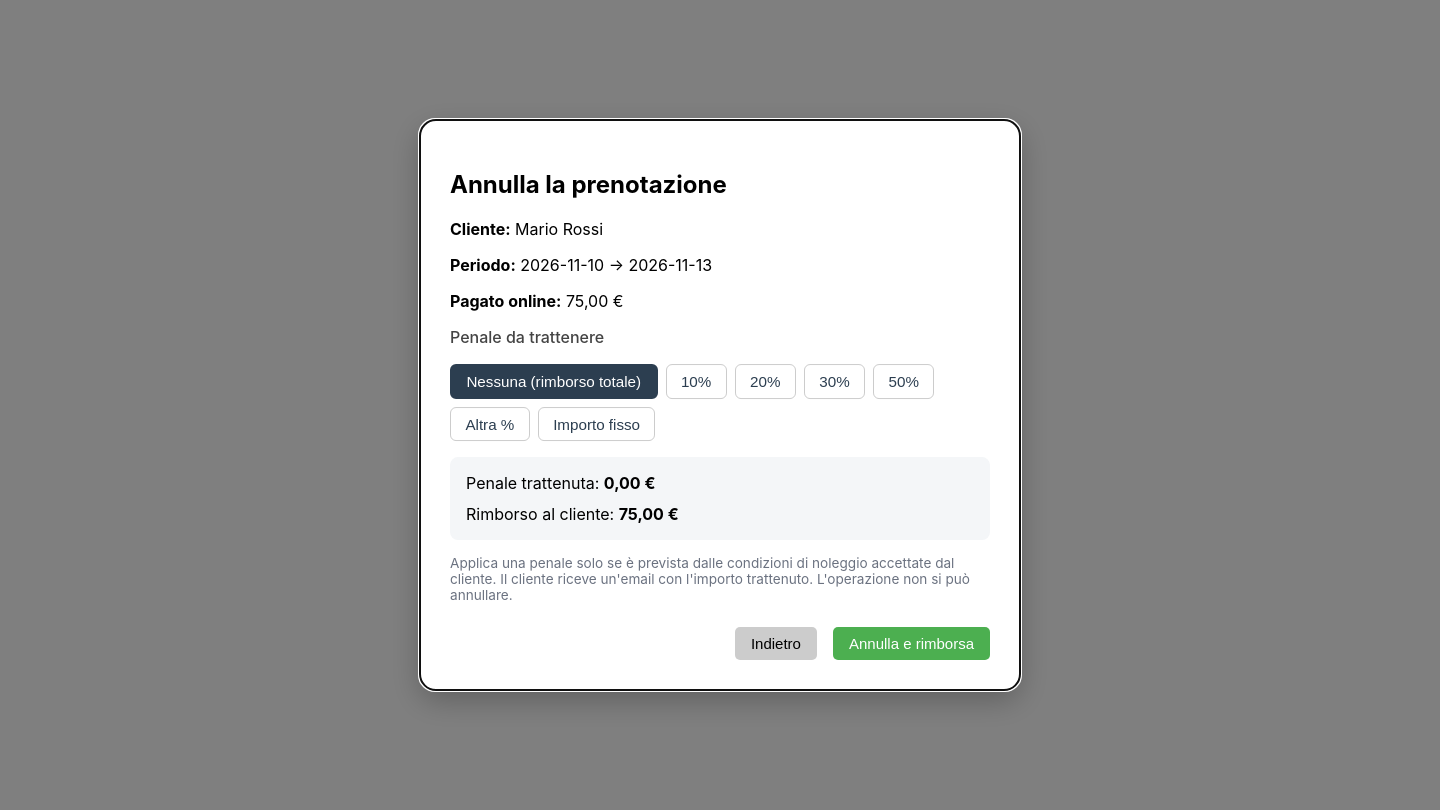
Scenario: una penale superiore all'importo pagato è rifiutata
Click the button "Importo fisso".
click(597, 424)  # box [538, 407, 655, 441]
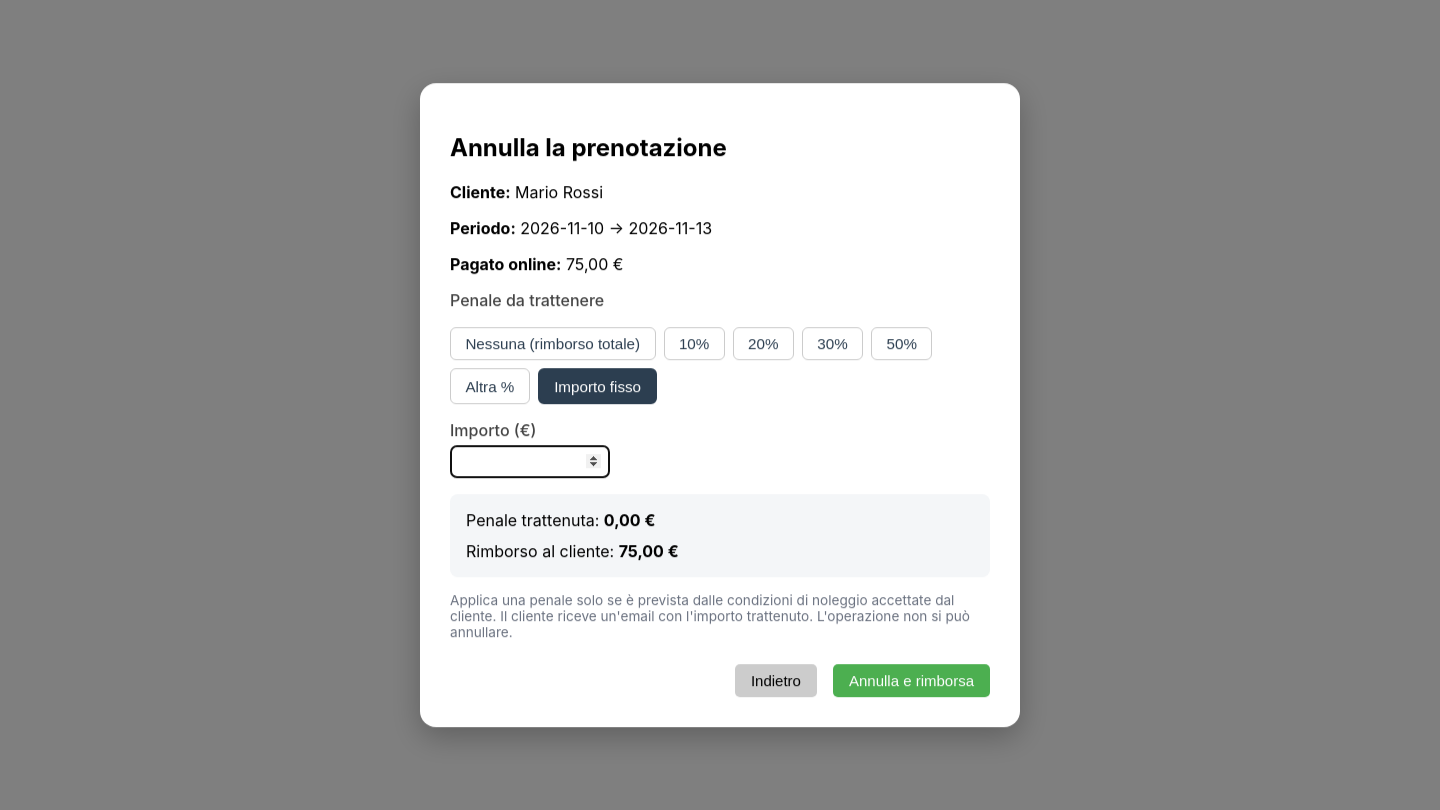
Type "80" into the number field labelled "Importo (€)".
click(530, 461); type("80")  # box [450, 445, 610, 478]
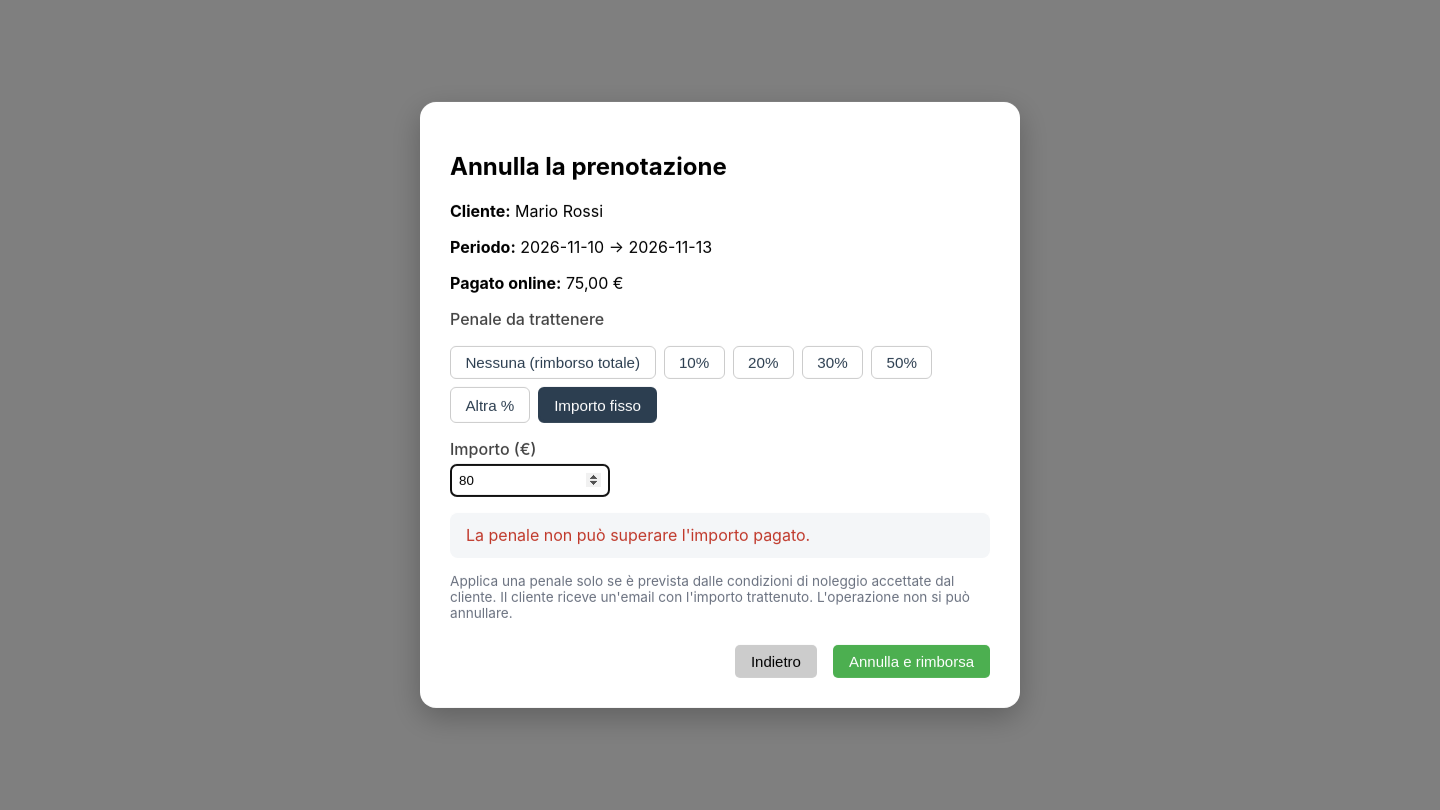
Expected: the button "Annulla e rimborsa" is disabled, [833, 645, 990, 678]
Expected: the message shows "non può superare", [466, 525, 810, 545]
